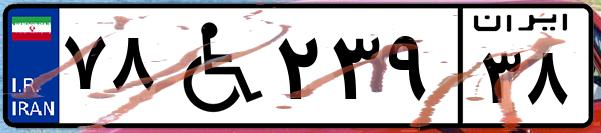2: (270, 28, 330, 110)
3: (330, 28, 385, 110), (475, 38, 525, 113)
7: (57, 26, 110, 100)
8: (525, 38, 570, 115), (110, 28, 158, 98)
9: (385, 28, 445, 110)
ژ (معلولین و جانبازان): (158, 12, 270, 120)
